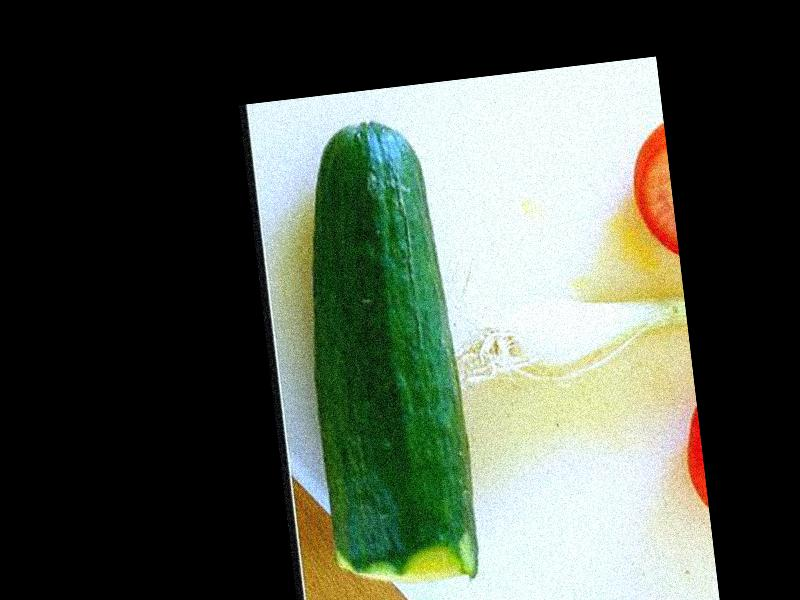Cucumber: (283, 111, 481, 594)
